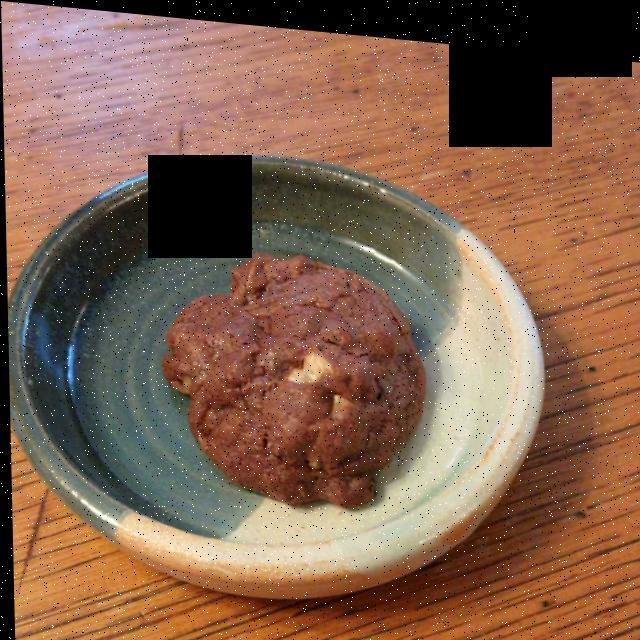cookies: (139, 236, 435, 508)
